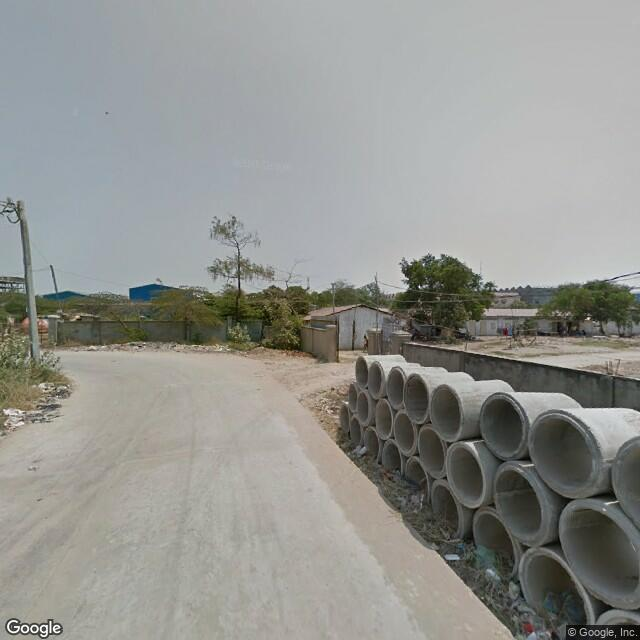litter: (509, 611, 552, 638), (400, 488, 424, 510), (481, 561, 502, 584), (441, 549, 465, 566), (350, 442, 370, 460)
